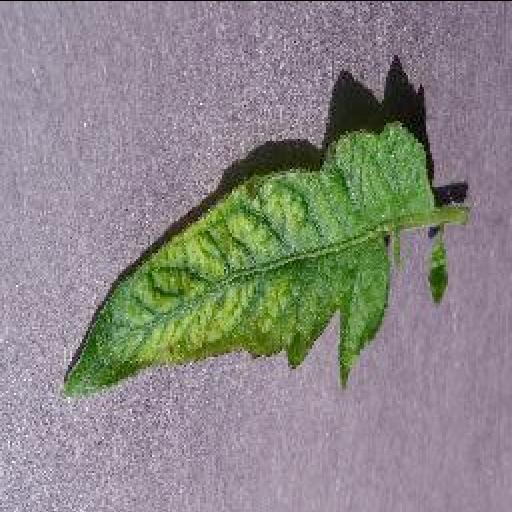Mosaic Virus: (58, 116, 436, 398)
